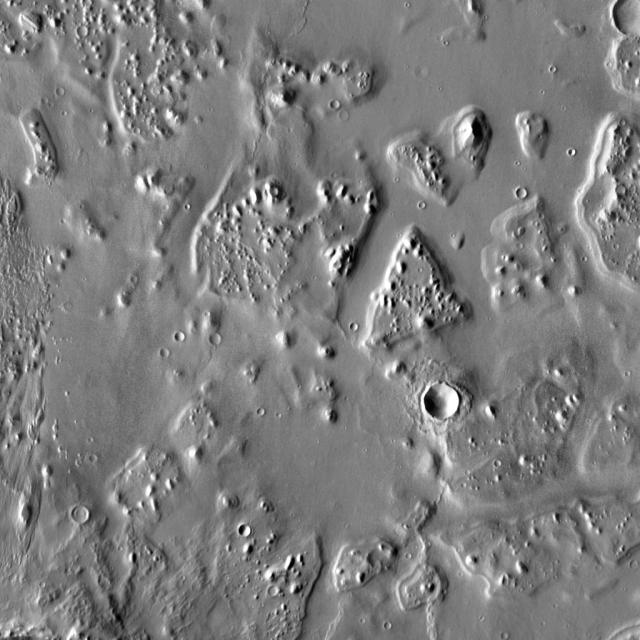crater: (426, 383, 463, 421), (613, 0, 640, 36), (74, 506, 92, 522), (418, 66, 430, 78), (212, 333, 224, 345), (240, 524, 252, 536), (176, 331, 188, 342), (100, 576, 111, 587), (332, 98, 342, 109), (58, 86, 68, 96), (162, 348, 172, 358), (90, 453, 100, 463), (270, 584, 280, 594), (79, 24, 89, 34), (341, 110, 351, 120), (164, 606, 174, 616), (516, 191, 525, 200), (352, 323, 361, 332), (272, 186, 281, 194), (260, 406, 268, 414), (497, 459, 505, 467), (386, 622, 394, 630), (624, 554, 631, 562), (496, 624, 503, 632), (565, 142, 571, 148), (130, 120, 136, 126)
